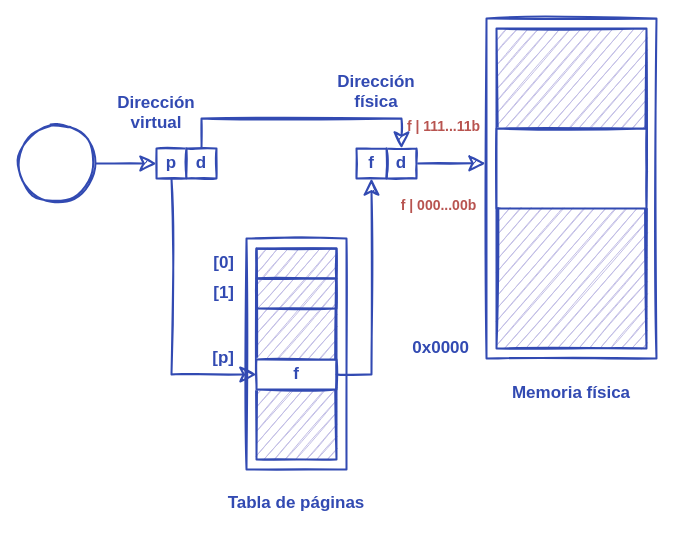
Some shapes in this 673 by 545 pixel diagram are drawn without their labels. Here are the shapes that lost their labels. From the top down, the centre of each, then its label:
point 56,163: CPU
point 571,168: Datos de la página p
